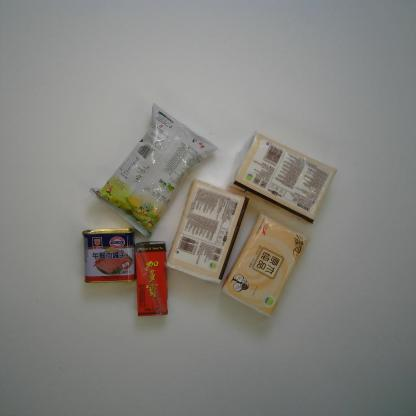Canned Food: (81, 227, 136, 284)
Drink: (134, 240, 168, 317)
Puffed Food: (88, 102, 219, 239)
Tissue: (226, 131, 338, 225), (220, 210, 310, 318), (164, 178, 250, 284)
